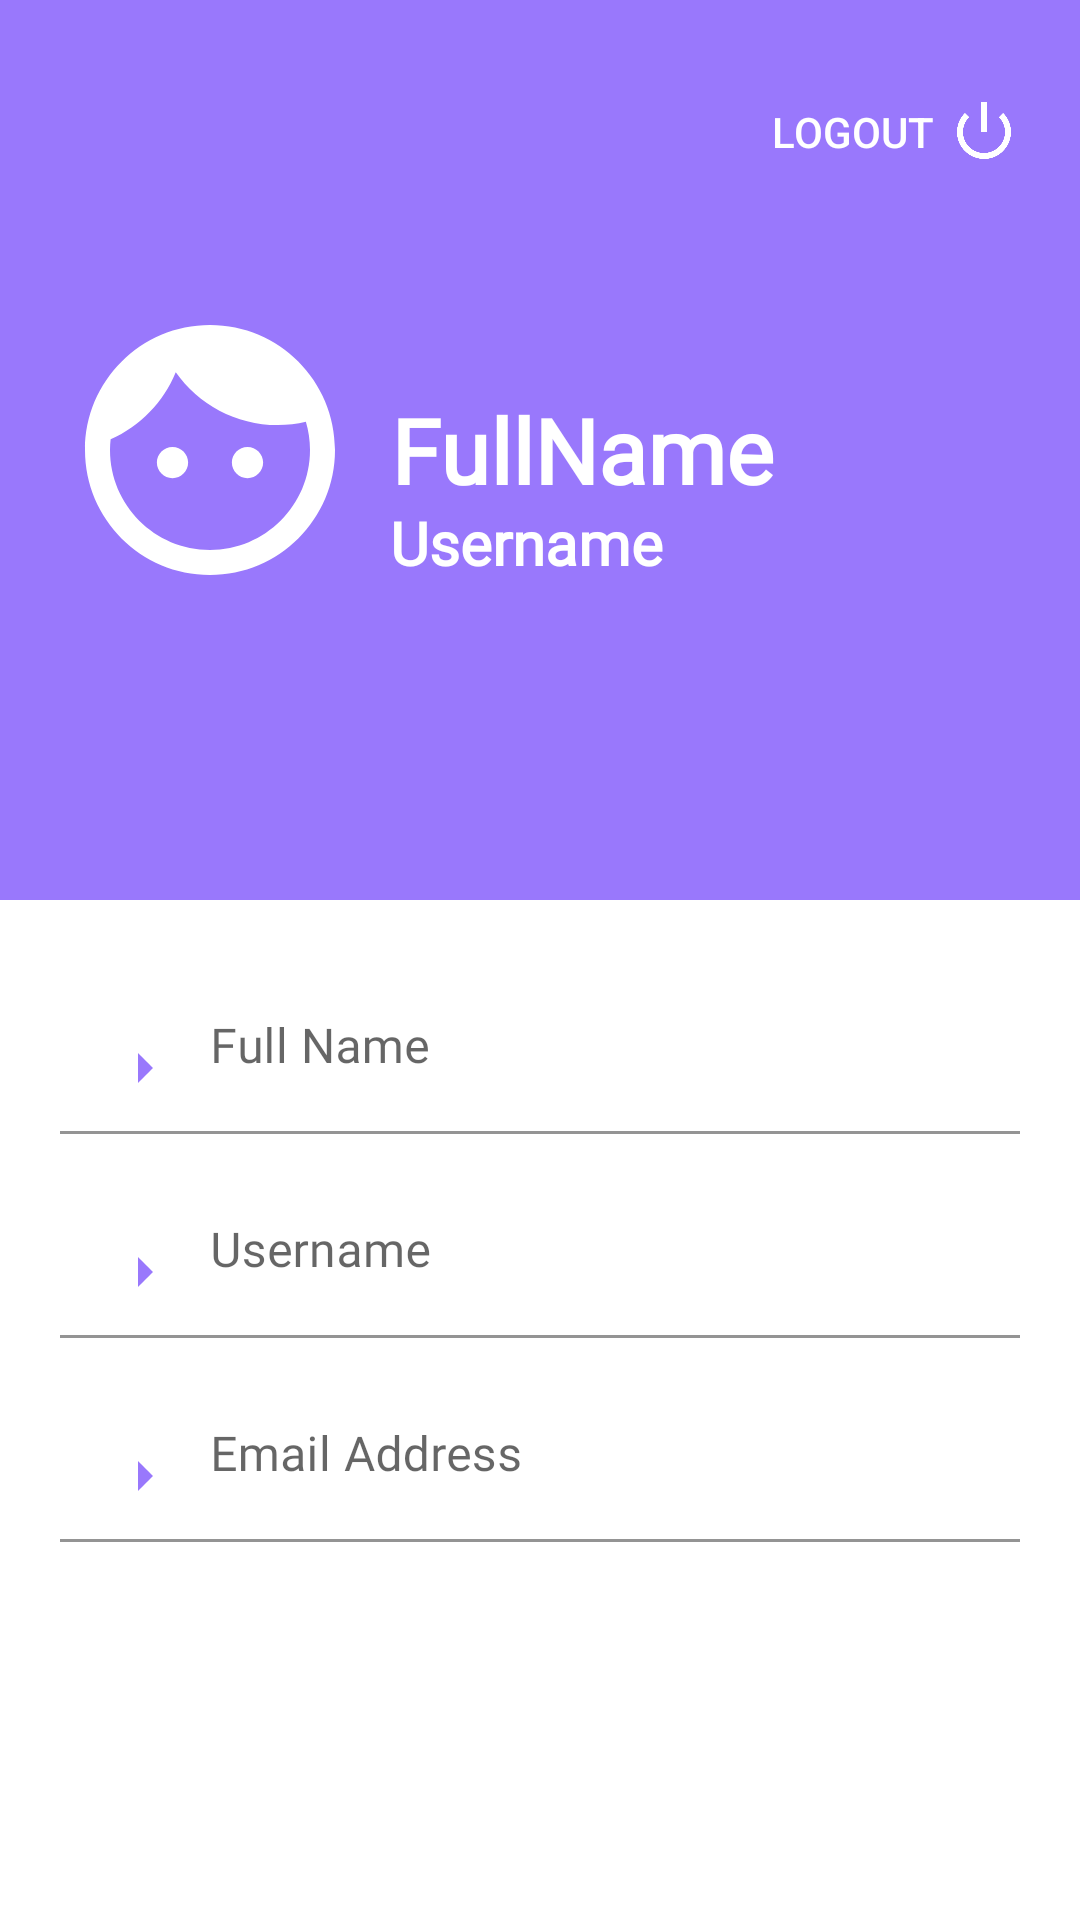

Point at icon controls on the screen. Image size 1080*1920, points as [x,y].
face: [210,450]
